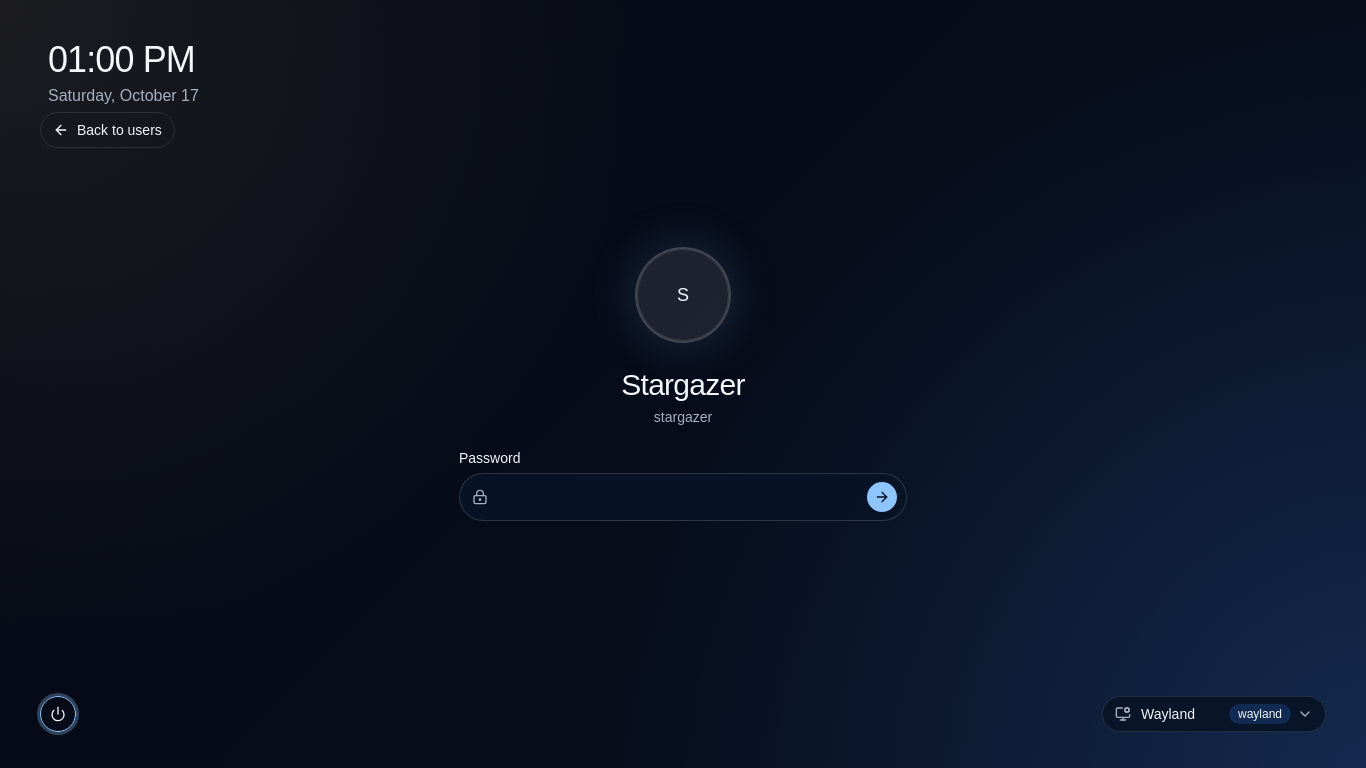
Scenario: SPA authentication UI › previews simulated power actions without a host bridge
The image size is (1366, 768).
Press Arrowdown
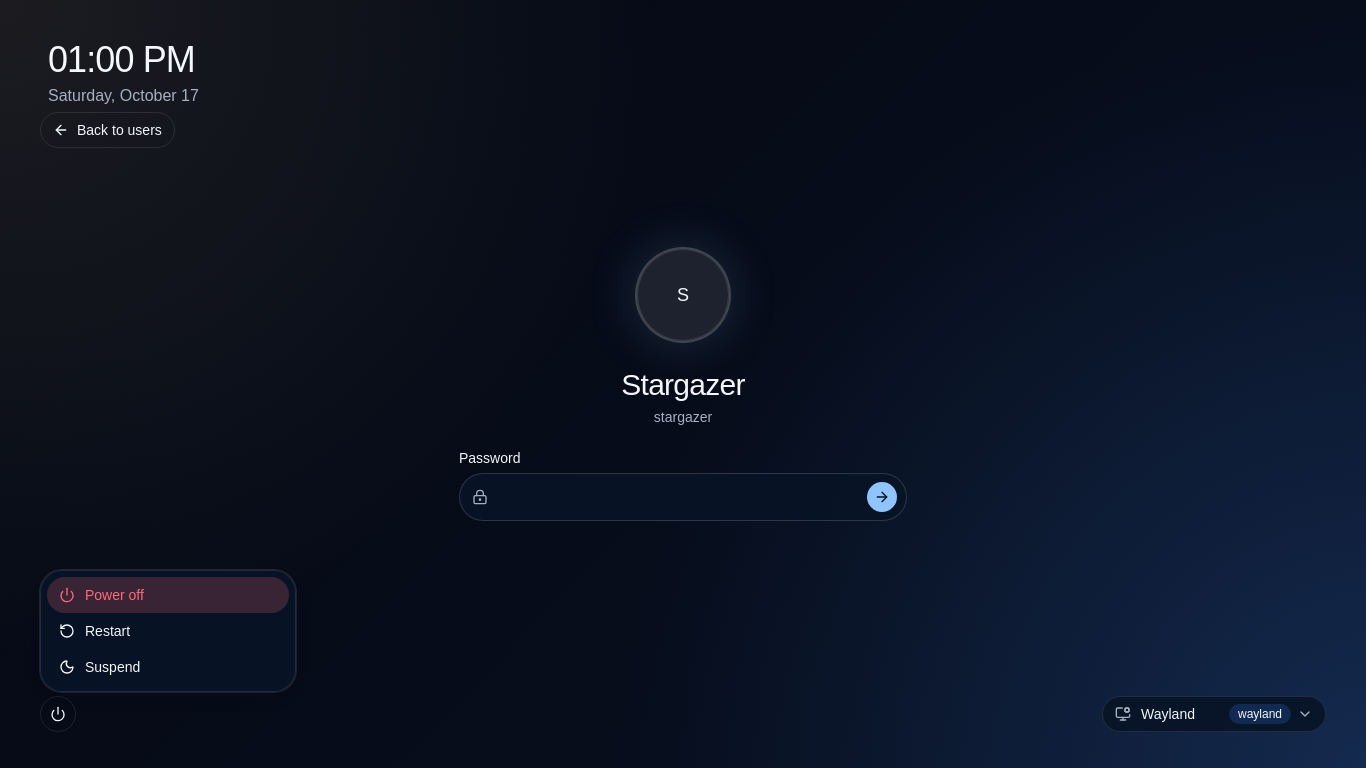
Expected: the menu item "Power off" is shown, [47, 577, 289, 613]
Expected: the menu item "Restart" is shown, [59, 623, 130, 639]
Click the menu item "Suspend" at (100, 667), box [59, 659, 140, 675]
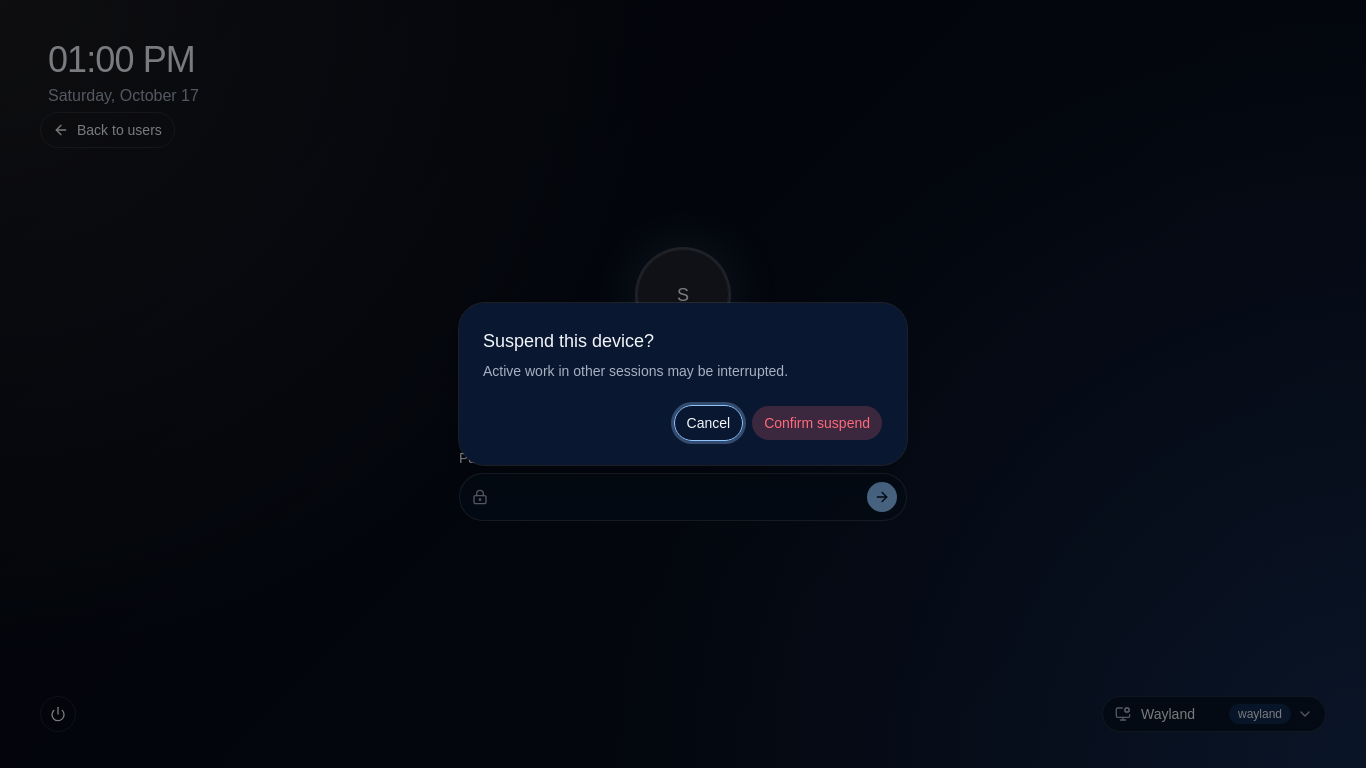
Click the button "Confirm suspend" at (817, 423), box [751, 405, 883, 441]
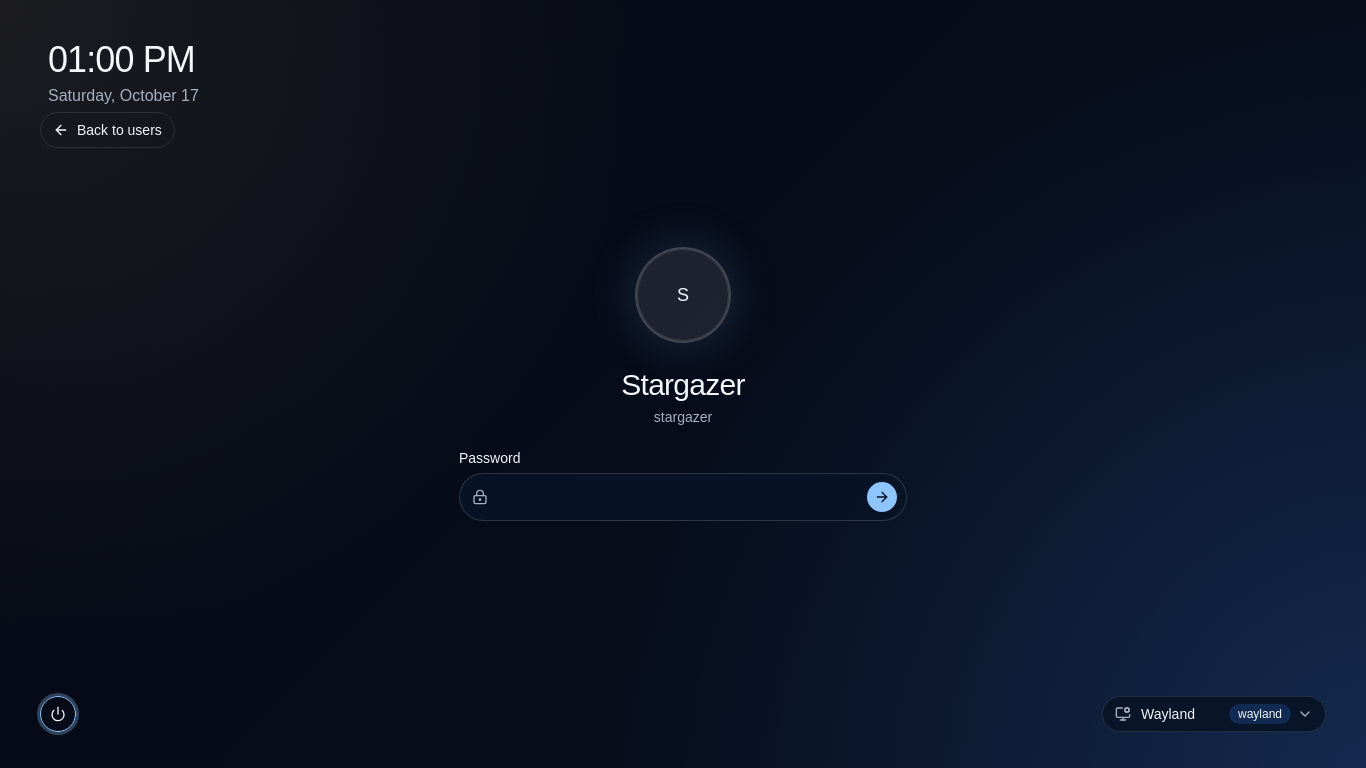
Expected: the button "Confirm suspend" is gone
